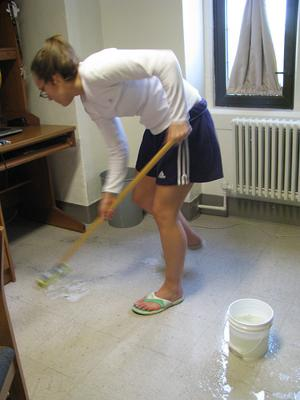person: (29, 33, 225, 317)
